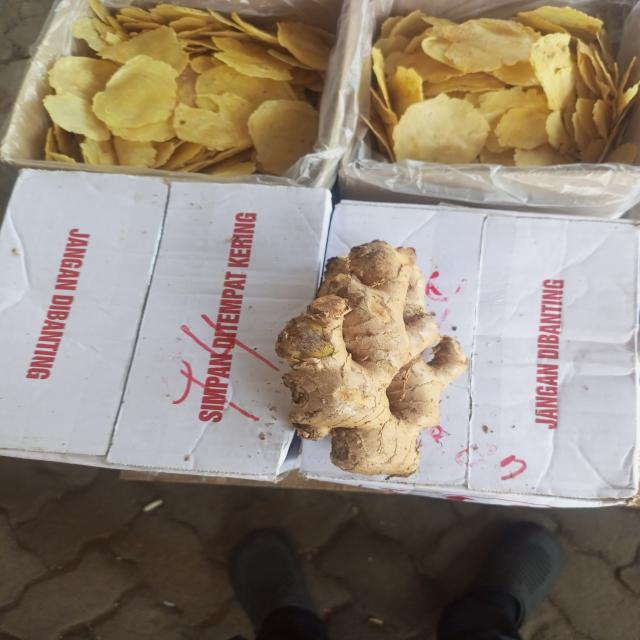ginger: (290, 241, 456, 469)
